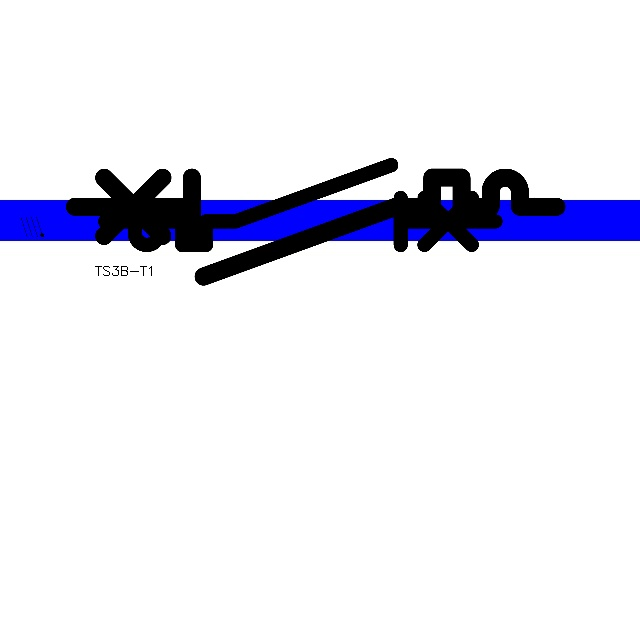interruptor_termomagnetico: (62, 165, 569, 289), (95, 155, 505, 255)
